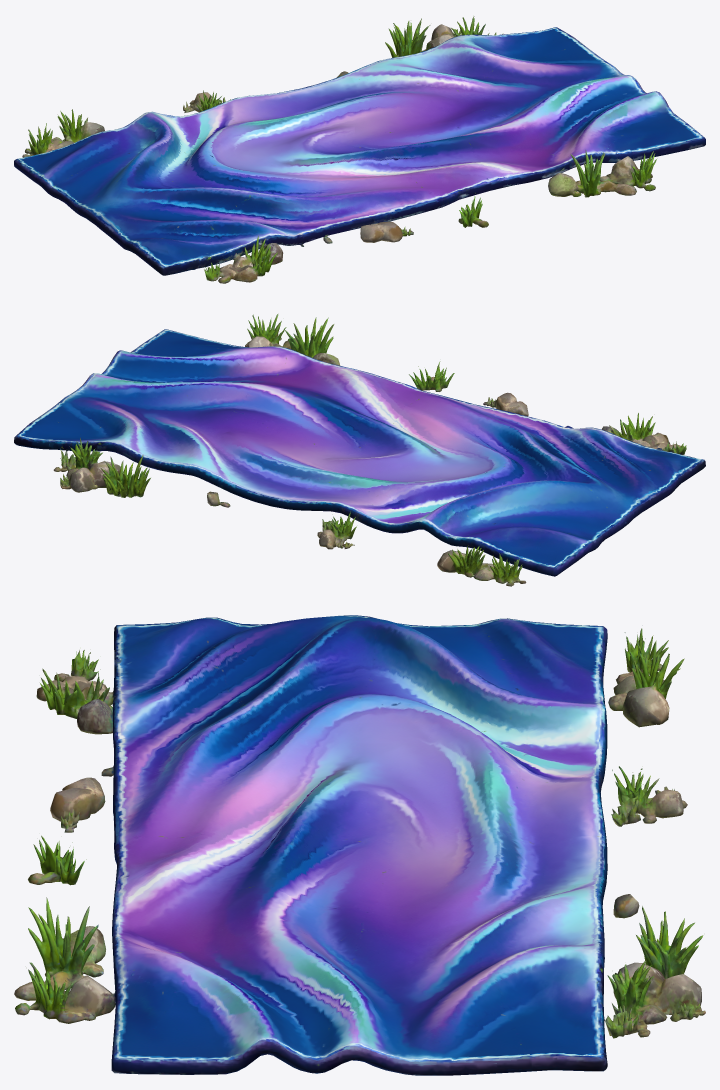
File: Iridescent_Trail.fbx
The picture shows the model from 3 angles, top to bottom: view 1: azimuth 30°, elevation 25°; view 2: azimuth 150°, elevation 25°; view 3: azimuth 270°, elevation 25°; orthographic projection. The views are drawn at different scales.
Visible parts, largest first — view 1: Iridescent_Trail_LOD0; view 2: Iridescent_Trail_LOD0; view 3: Iridescent_Trail_LOD0.
Part boxes in pixels (x1,y1,x2,y2): Iridescent_Trail_LOD0: [14, 16, 705, 283]; Iridescent_Trail_LOD0: [14, 314, 705, 586]; Iridescent_Trail_LOD0: [14, 615, 705, 1075].
Size of what is drawn, in the model's own units: 1.9 by 0.1395 by 1.26.
Materials: 1 (1 with a texture image).
